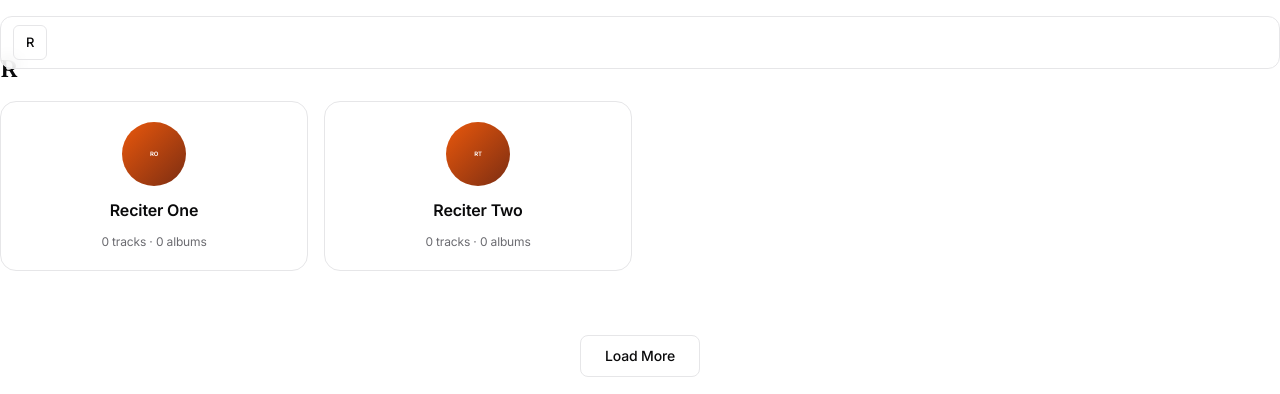
it: ReciterGrid › hides Load More button after last page is loaded
The width and height of the screenshot is (1280, 394).
Click the button "Load More".
click(640, 356)  # box [580, 335, 700, 377]
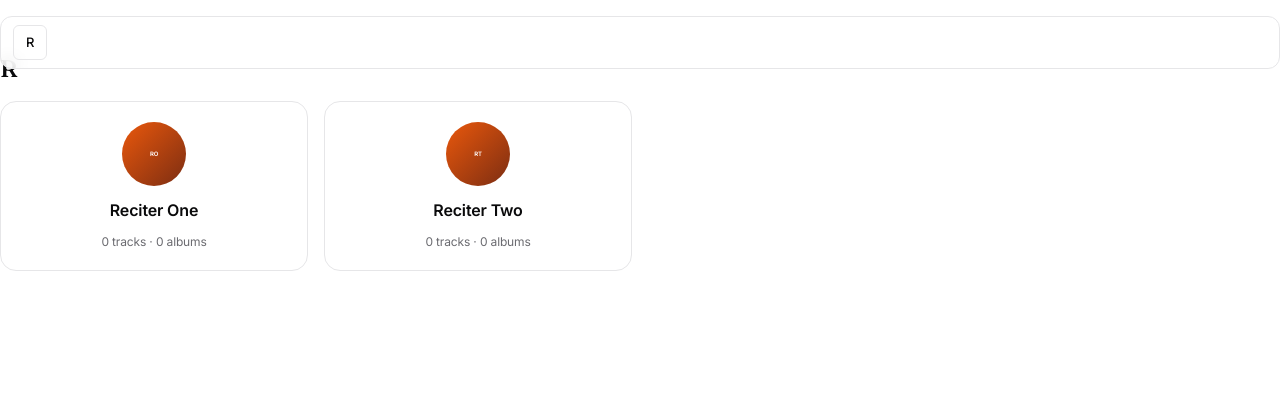
Expected: the button "Load More" is gone
